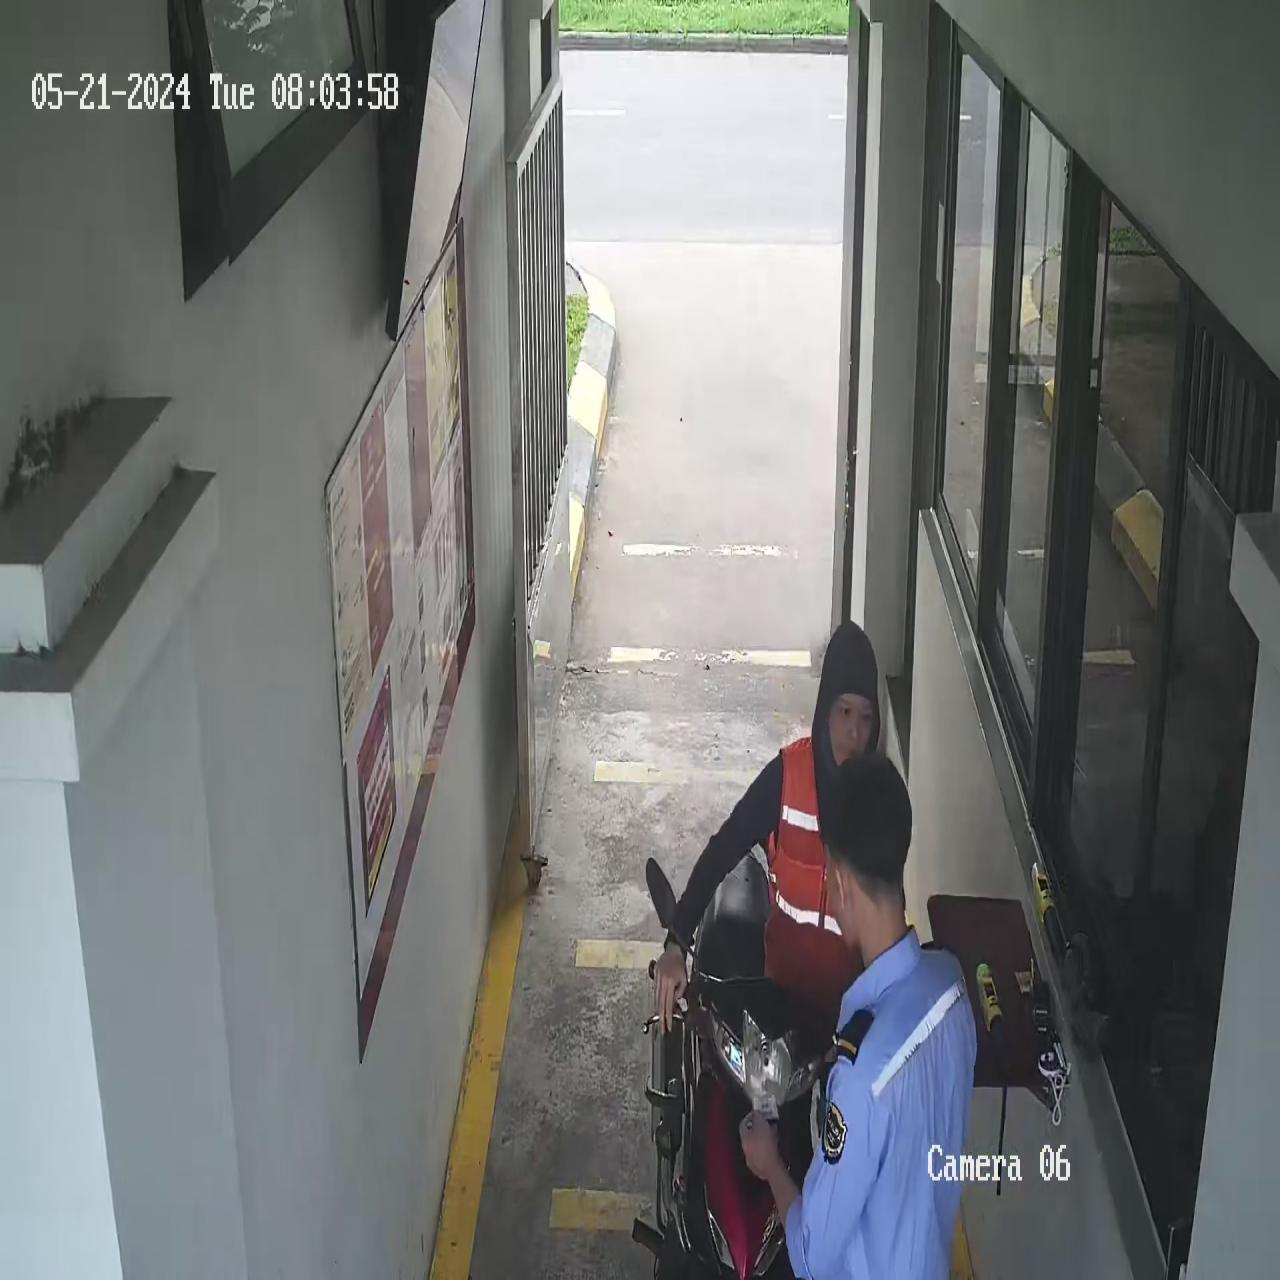breathalyzer: (973, 958, 1017, 1196), (1030, 859, 1071, 972)
